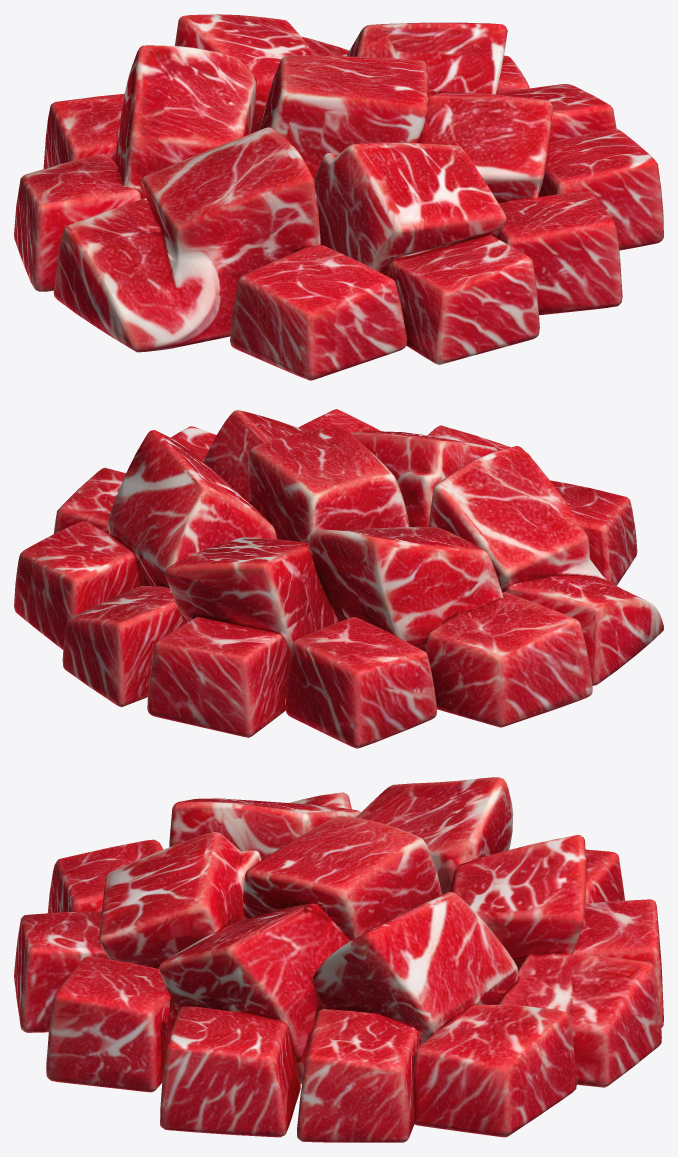
File: skewer-meat.glb
3 views of the same model, one above another, from view 1: azimuth 30°, elevation 25°; view 2: azimuth 150°, elevation 25°; view 3: azimuth 270°, elevation 25° (orthographic). The views are drawn at different scales.
Visible parts, largest first — view 1: mesh; view 2: mesh; view 3: mesh.
Part boxes in pixels (x1,y1,x2,y2): mesh: (14,14,663,380); mesh: (14,409,663,748); mesh: (14,777,663,1142).
Bounding box in the file's own units: 2 × 0.5785 × 1.97.
1 material, 1 textured.
